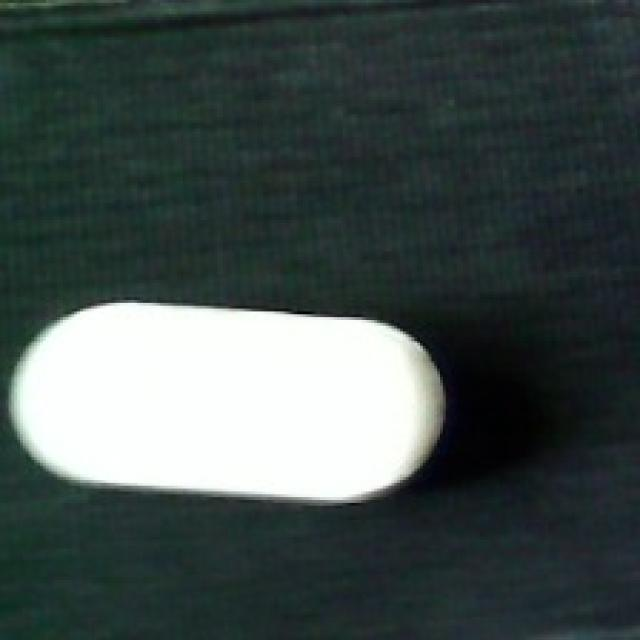no-defect: (3, 294, 448, 503)
